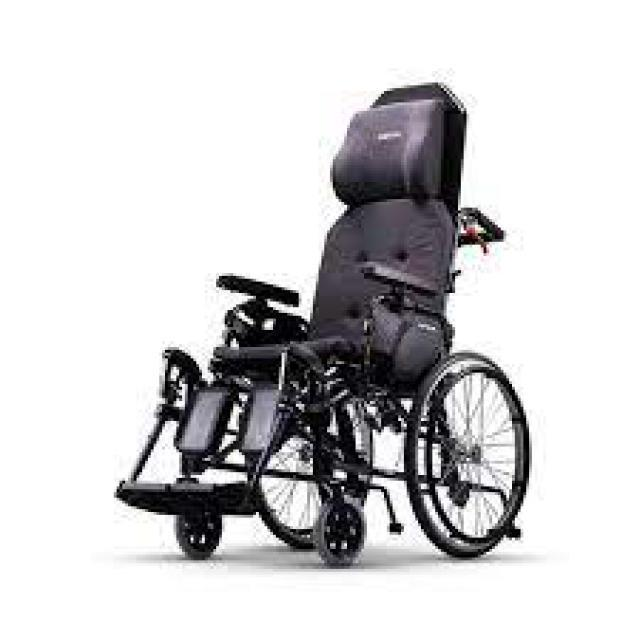wheelchair: (111, 77, 532, 566)
